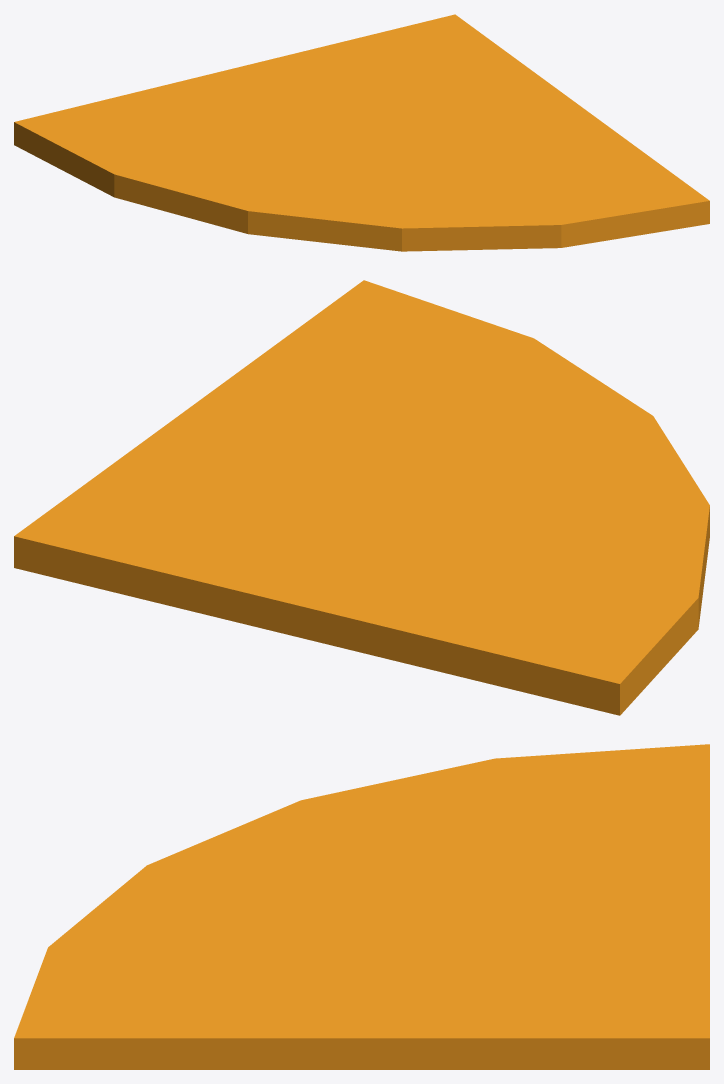
Rendered from SM_Buildings_FloorCurved_2x2_01.fbx.
The picture shows the model from 3 angles, top to bottom: view 1: azimuth 30°, elevation 25°; view 2: azimuth 150°, elevation 25°; view 3: azimuth 270°, elevation 25°; orthographic projection. The views are drawn at different scales.
Visible parts, largest first — view 1: SM_Buildings_FloorCurved_2x2_01; view 2: SM_Buildings_FloorCurved_2x2_01; view 3: SM_Buildings_FloorCurved_2x2_01.
Part boxes in pixels (x1,y1,x2,y2): SM_Buildings_FloorCurved_2x2_01: [14, 14, 709, 251]; SM_Buildings_FloorCurved_2x2_01: [14, 280, 709, 715]; SM_Buildings_FloorCurved_2x2_01: [14, 744, 709, 1069].
Size of the model in its own units: 200 by 10 by 200.
